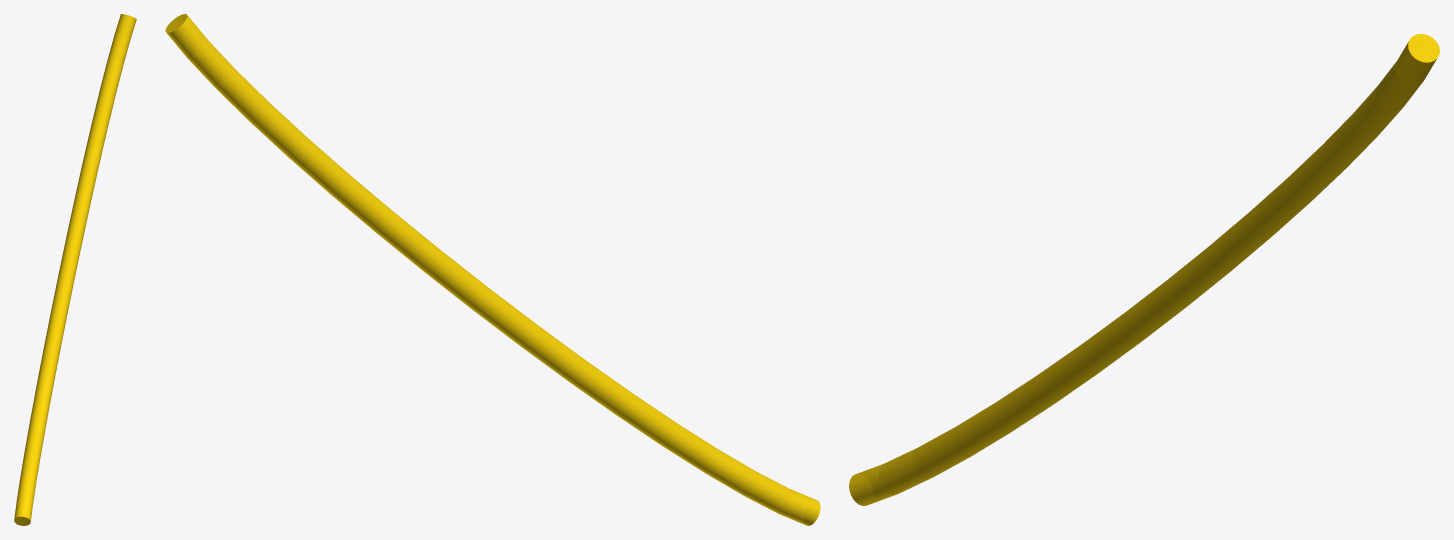
The model's file is Event_420107950_track_24.fbx.
The picture shows the model from 3 angles, left to right: view 1: azimuth 30°, elevation 25°; view 2: azimuth 150°, elevation 25°; view 3: azimuth 270°, elevation 25°; orthographic projection. The views are drawn at different scales.
Parts seen in each view (by area): view 1: Model; view 2: Model; view 3: Model.
Boxes of the visible parts, bbox=[...] form: Model: bbox=[14, 14, 136, 525]; Model: bbox=[165, 14, 820, 525]; Model: bbox=[849, 34, 1439, 505].
Bounding box in the file's own units: 0.715 × 0.9281 × 0.7052.
